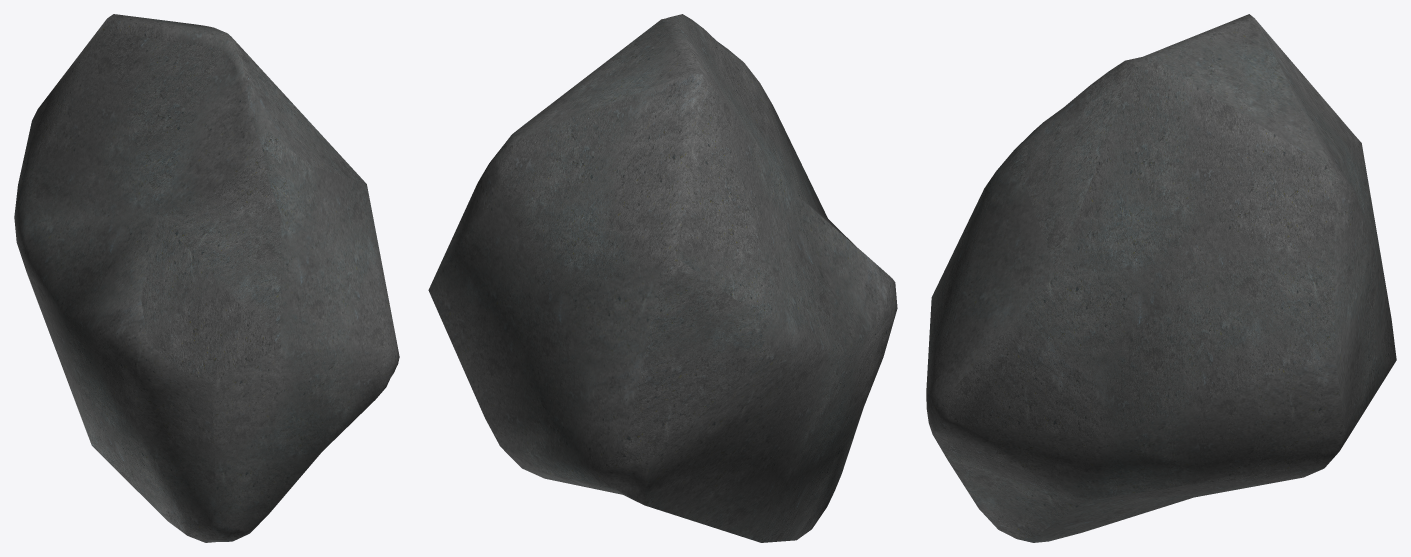
Rendered from rock.010.obj.
The picture shows the model from 3 angles, left to right: view 1: azimuth 30°, elevation 25°; view 2: azimuth 150°, elevation 25°; view 3: azimuth 270°, elevation 25°; orthographic projection. The views are drawn at different scales.
Size of the model in its own units: 1.13 by 1.65 by 1.36.
1 material, 1 textured.
